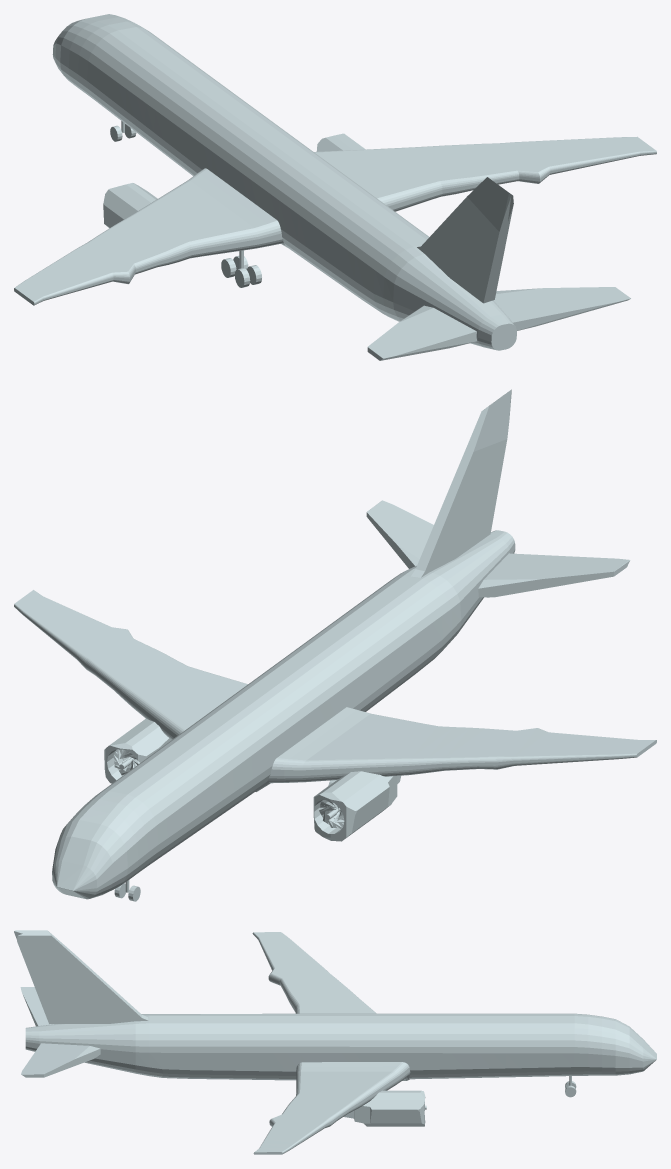
3 views of the same model, one above another, from view 1: azimuth 30°, elevation 25°; view 2: azimuth 150°, elevation 25°; view 3: azimuth 270°, elevation 25° (orthographic). The views are drawn at different scales.
Visible parts, largest first — view 1: Aircraft visual hull, Landing gear; view 2: Aircraft visual hull; view 3: Aircraft visual hull.
Boxes of the visible parts, x1,y1,x2,y2 form: Aircraft visual hull: (14,14,656,360); Landing gear: (110,121,261,287); Aircraft visual hull: (14,389,656,899); Aircraft visual hull: (14,930,656,1154).
Size of the model in its own units: 38.1 by 13.57 by 47.26.
